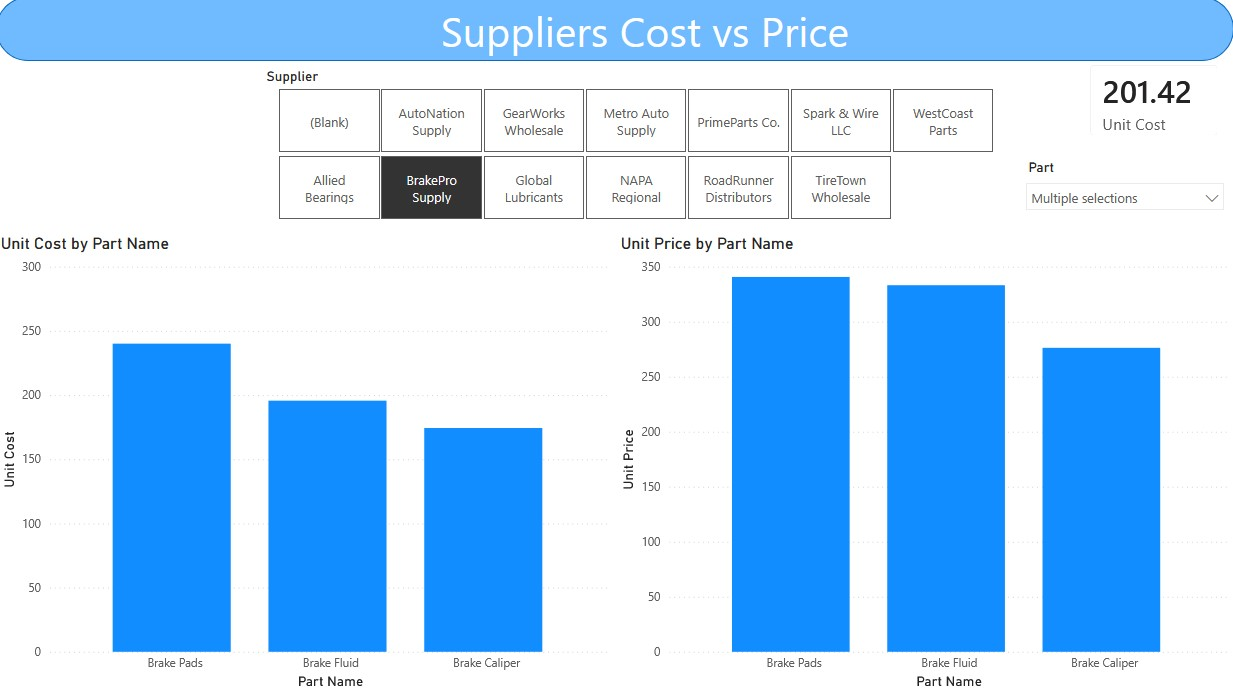

The dashboard page shown, as its layout file describes it:
{"tool":"powerbi","page":{"name":"Suppliers Cost Vs Price","canvas":[1280,720],"ordinal":4},"visuals":[{"type":"columnChart","fields":{"Category":["Parts.part_name"],"Y":["Avg(Parts.unit_cost)"]},"box":[0,245.7,640.6,474.3],"z":0},{"type":"slicer","fields":{"Values":["Suppliers.supplier_name"]},"box":[266.5,66.1,788,170.1],"z":1},{"type":"columnChart","fields":{"Category":["Parts.part_name"],"Y":["Avg(Parts.unit_price)"]},"box":[640.6,245.7,638.7,474.3],"z":2},{"type":"cardVisual","fields":{"Data":["Avg(Parts.unit_cost)"]},"box":[1113.1,52.9,166.3,107.7],"z":4},{"type":"slicer","fields":{"Values":["Parts.part_name"]},"box":[1054.5,160.6,224.9,75.6],"z":5},{"type":"shape","box":[0,0,1279.4,66.1],"z":6},{"type":"textbox","box":[173.9,0,994,66.1],"z":7}]}

Visuals, with their boxes in screenshot pixels (x1, y1, x2, y2), scaled from the page's 1280x720 canvas onto the 1233x697 screenshot:
columnChart - Parts.part_name x Avg(Parts.unit_cost): (x1=0, y1=238, x2=617, y2=696)
slicer - Suppliers.supplier_name: (x1=257, y1=64, x2=1016, y2=229)
columnChart - Parts.part_name x Avg(Parts.unit_price): (x1=617, y1=238, x2=1232, y2=696)
cardVisual - Avg(Parts.unit_cost): (x1=1072, y1=51, x2=1232, y2=155)
slicer - Parts.part_name: (x1=1016, y1=155, x2=1232, y2=229)
shape: (x1=0, y1=0, x2=1232, y2=64)
textbox: (x1=168, y1=0, x2=1125, y2=64)
